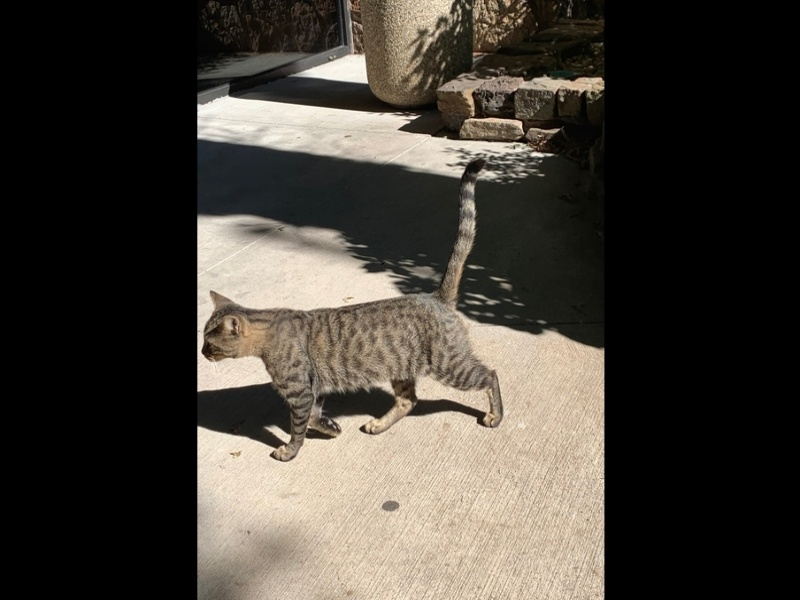cat: (203, 154, 507, 469)
